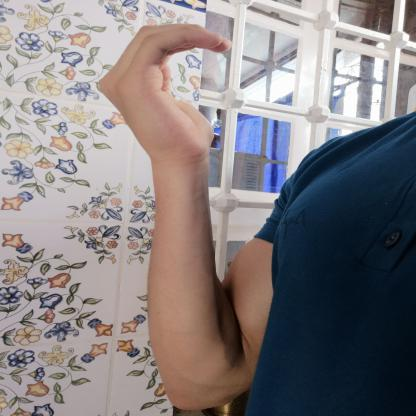HAA: (84, 12, 250, 162)
